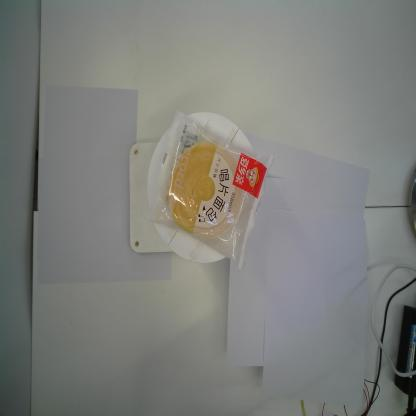Dessert: (145, 110, 276, 272)
